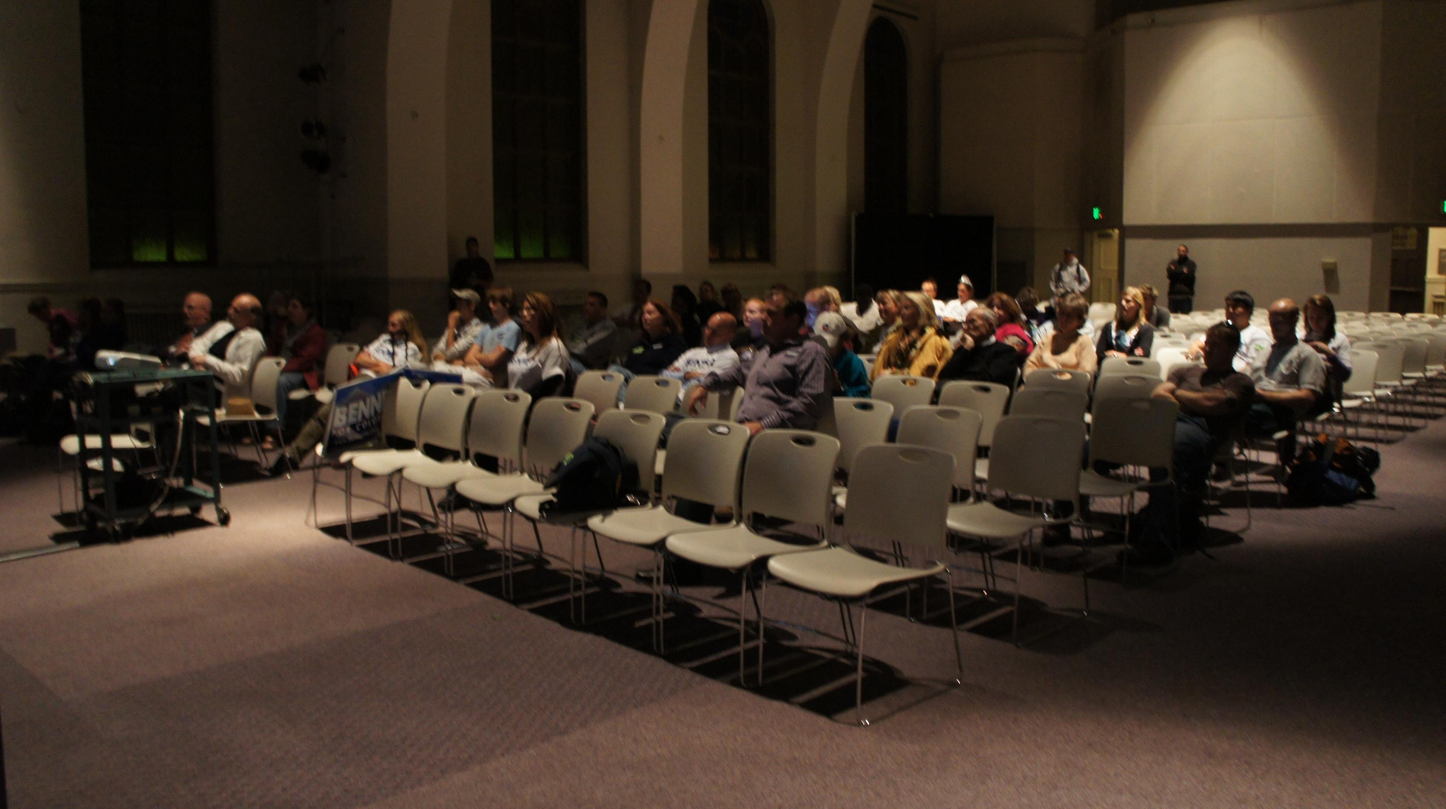Chair: (50, 291, 1445, 691), (771, 455, 950, 700)
